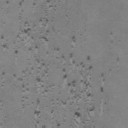oxide scale of temperature system: (18, 17, 104, 117), (2, 43, 18, 54), (4, 114, 10, 124), (18, 0, 24, 7), (56, 120, 60, 128), (119, 4, 124, 10), (2, 70, 6, 76)
